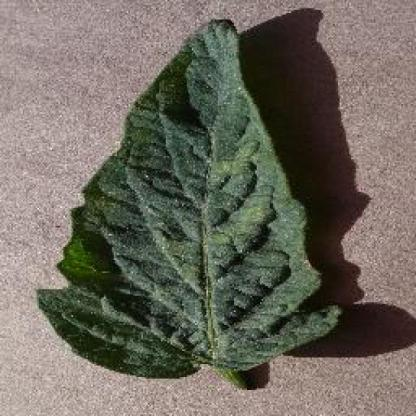Tomato_Spider_Mites: (39, 20, 341, 367)
